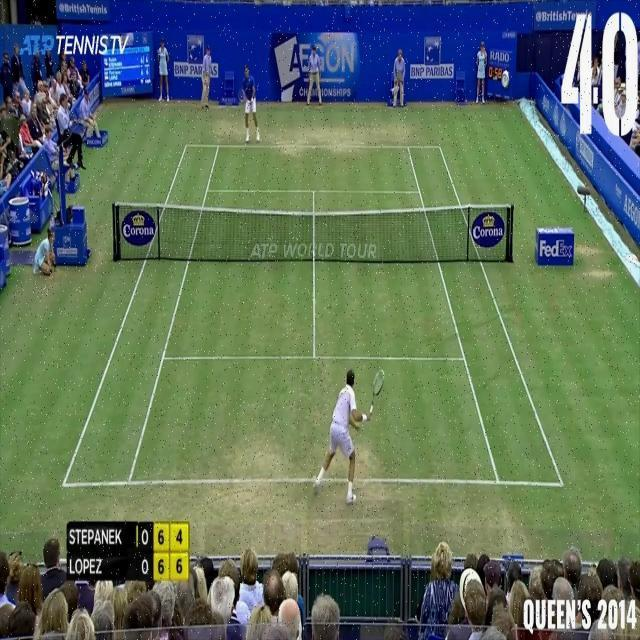left side: (64, 146, 218, 485), (408, 147, 562, 484)
player: (312, 366, 370, 504), (236, 64, 263, 144)
